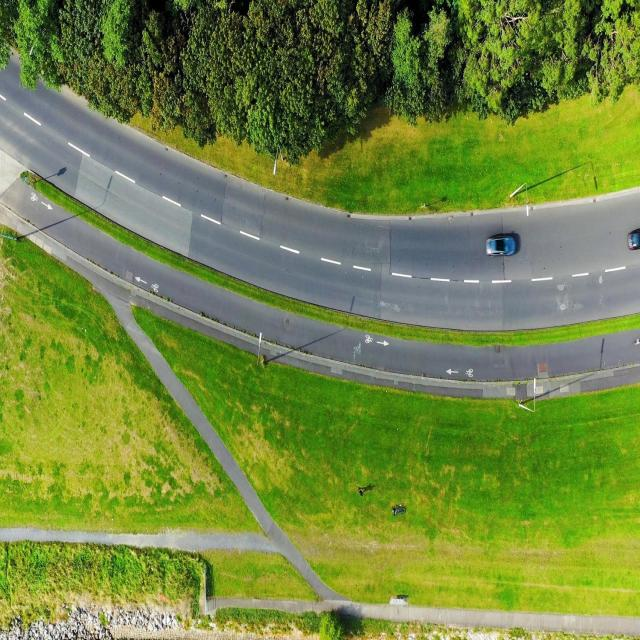Car: (477, 219, 526, 267), (626, 227, 640, 250)
